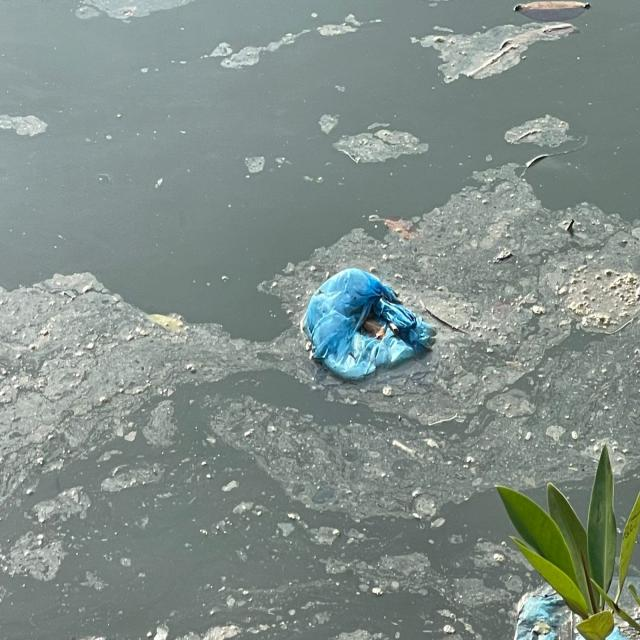Kantong Plastik: (300, 260, 441, 386)
